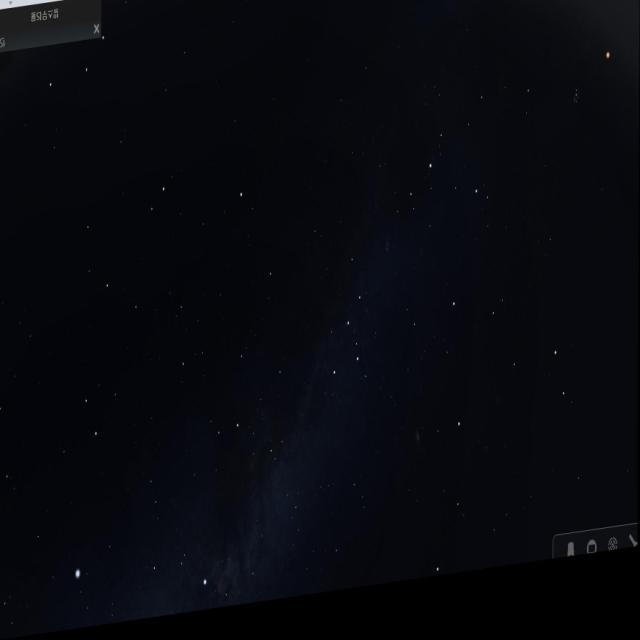cassiopeia: (324, 262, 375, 410)
pleiades: (571, 96, 589, 132)
